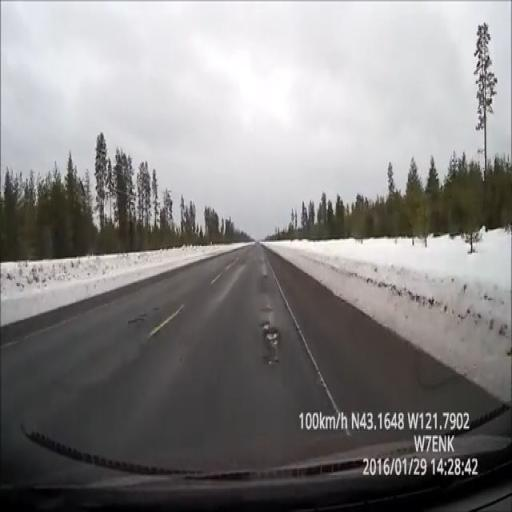Potholes: (247, 306, 288, 370)
